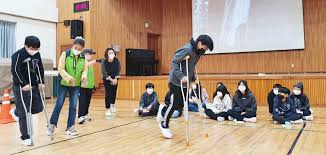crutches: (157, 34, 214, 149), (10, 36, 54, 145)
